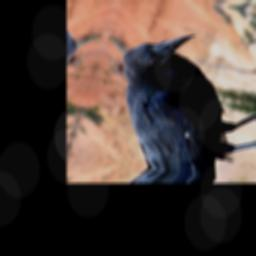Crow: (86, 23, 256, 182)
